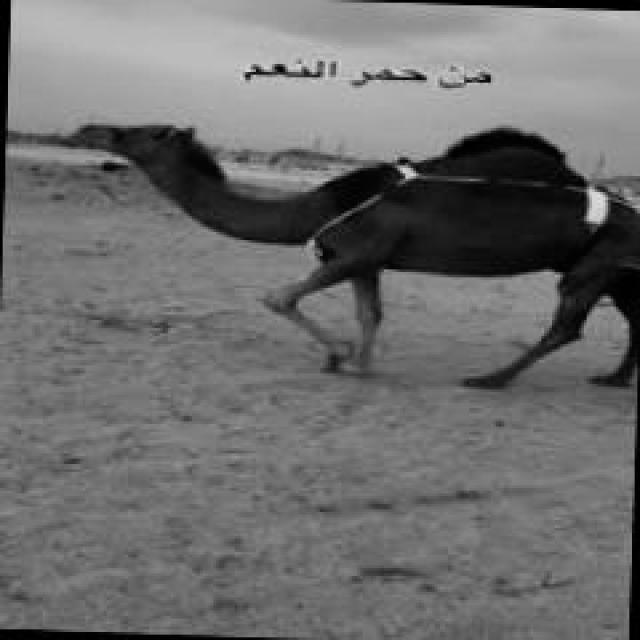Camel: (62, 117, 638, 387)
